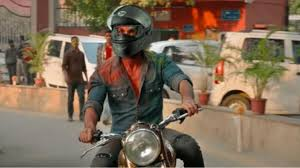com_capacete: (101, 4, 156, 60)
